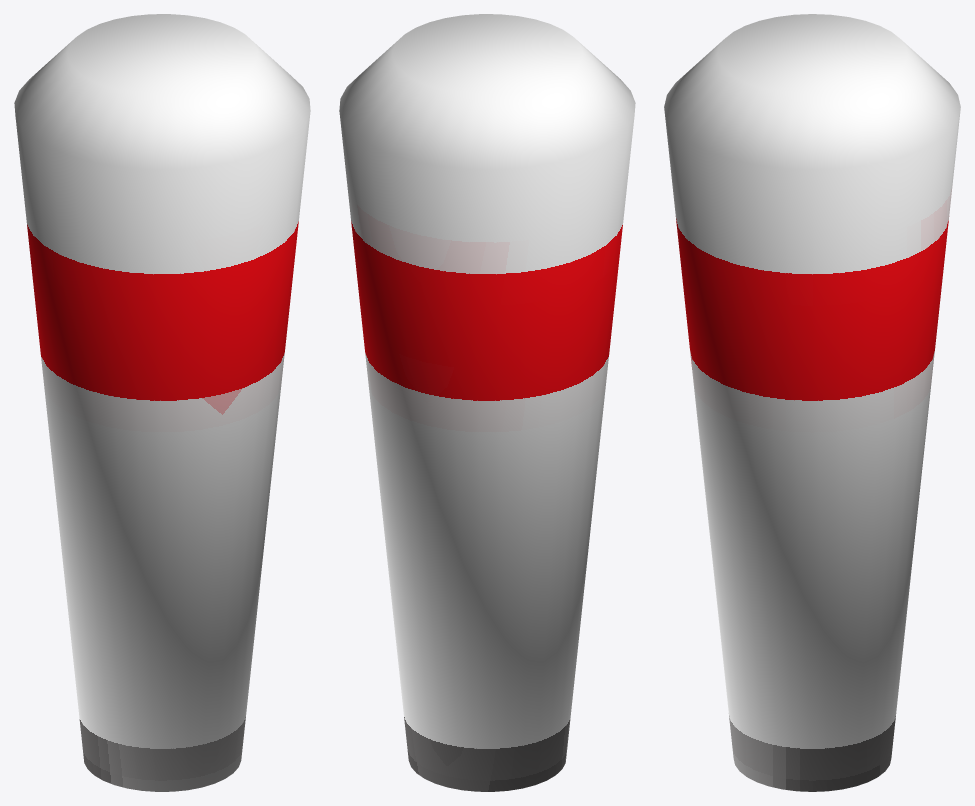
Rendered from marking.fbx.
3 views of the same model, side by side, from view 1: azimuth 30°, elevation 25°; view 2: azimuth 150°, elevation 25°; view 3: azimuth 270°, elevation 25° (orthographic).
Parts seen in each view (by area): view 1: Cylinder; view 2: Cylinder; view 3: Cylinder.
Boxes of the visible parts, x1,y1,x2,y2 form: Cylinder: (14, 14, 310, 791); Cylinder: (339, 14, 635, 791); Cylinder: (664, 14, 960, 791).
Bounding box in the file's own units: 77.37 × 203 × 77.37.
